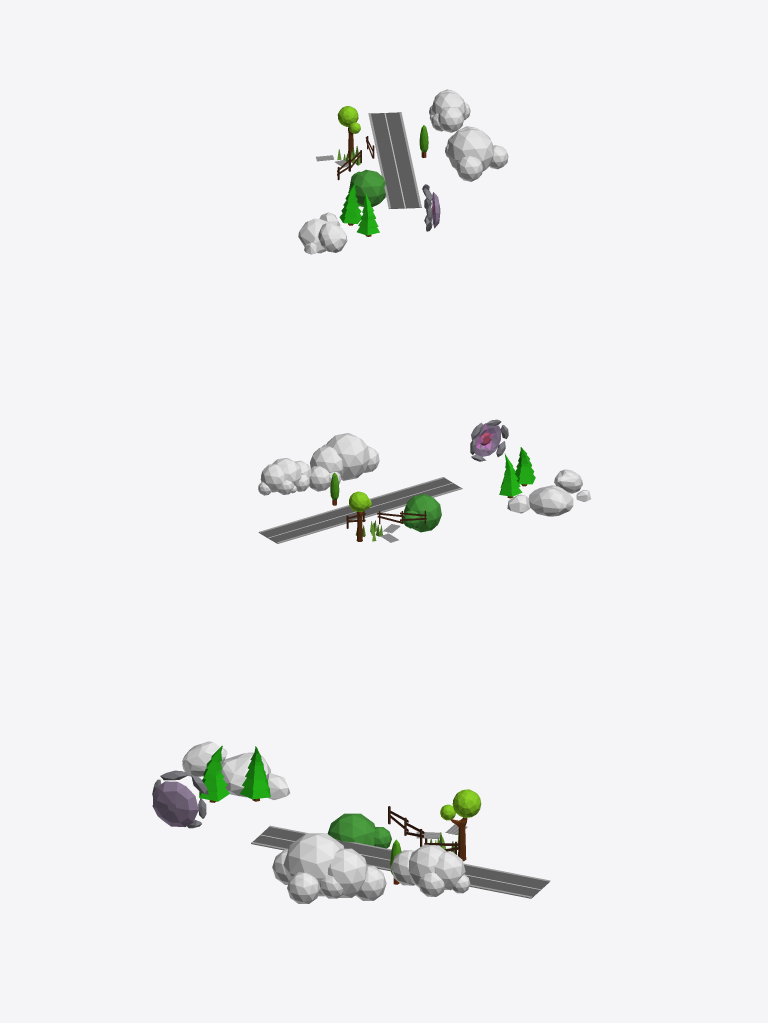
Rendered from Low-Poly_Models.glb.
The picture shows the model from 3 angles, top to bottom: view 1: azimuth 30°, elevation 25°; view 2: azimuth 150°, elevation 25°; view 3: azimuth 270°, elevation 25°; orthographic projection. The views are drawn at different scales.
Visible parts, largest first — view 1: Cube.016, Icosphere.016, Icosphere.025, Sphere.001, Sphere, Cylinder.001, Icosphere.013, Icosphere.003, Icosphere.010, Cylinder; view 2: Cube.016, Icosphere.016, Sphere, Icosphere.025, Cylinder.011, Icosphere.017, Cylinder.001; view 3: Cube.016, Icosphere.016, Cylinder.011, Icosphere.017, Icosphere.025, Sphere, Cylinder.001, Cylinder, Sphere.001, Icosphere.010, Icosphere.015, Icosphere.007 (+3 smaller).
Part boxes in pixels (x1,y1,x2,y2): Cube.016: [368, 112, 421, 208]; Icosphere.016: [447, 128, 493, 171]; Icosphere.025: [349, 169, 385, 207]; Sphere.001: [318, 223, 347, 252]; Sphere: [298, 218, 336, 253]; Cylinder.001: [339, 181, 361, 225]; Icosphere.013: [456, 156, 483, 181]; Icosphere.003: [438, 106, 463, 132]; Icosphere.010: [431, 91, 466, 117]; Cylinder: [357, 192, 379, 236]; Cube.016: [258, 477, 462, 543]; Icosphere.016: [325, 433, 369, 480]; Sphere: [528, 485, 573, 516]; Icosphere.025: [403, 494, 441, 532]; Cylinder.011: [472, 423, 500, 456]; Icosphere.017: [310, 446, 343, 477]; Cylinder.001: [499, 453, 522, 498]; Cube.016: [251, 825, 550, 898]; Icosphere.016: [283, 833, 344, 896]; Cylinder.011: [152, 781, 198, 826]; Icosphere.017: [327, 848, 367, 897]; Icosphere.025: [327, 813, 375, 845]; Sphere: [220, 752, 270, 797]; Cylinder.001: [239, 746, 270, 801]; Cylinder: [199, 745, 229, 802]; Sphere.001: [182, 741, 227, 777]; Icosphere.010: [408, 844, 446, 887]; Icosphere.015: [287, 872, 320, 903]; Icosphere.007: [434, 851, 465, 890].
Bounding box in the file's own units: 47.01 × 6.32 × 47.01.
